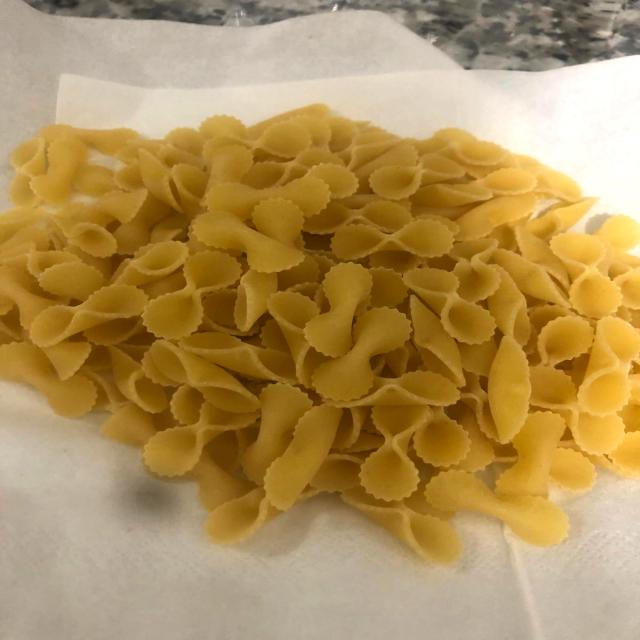farfalle pasta: (16, 118, 640, 562)
